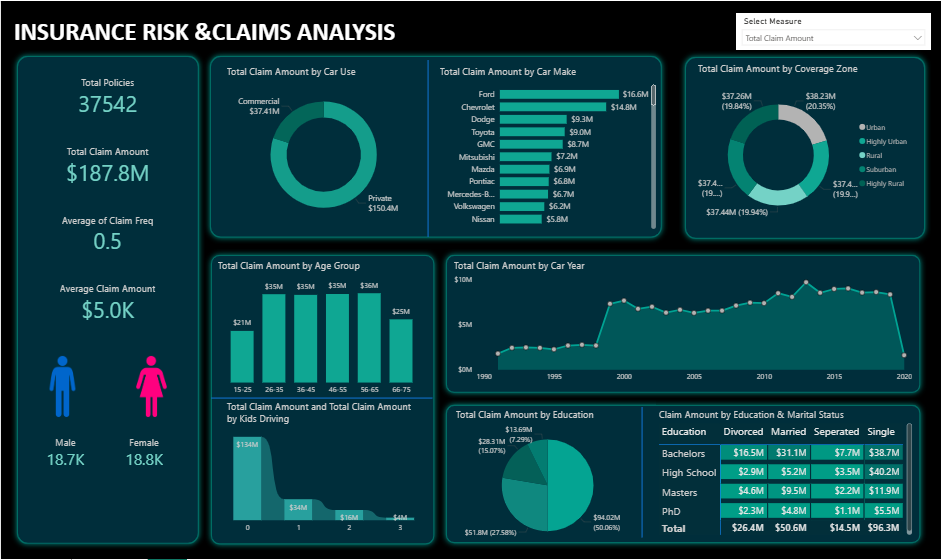

Layout of this report page (visuals, bound fields, positions):
{"tool":"powerbi","page":{"name":"Page 1","canvas":[1600,950],"ordinal":0},"visuals":[{"type":"textbox","box":[17.2,21,661.9,63],"z":0},{"type":"shape","box":[17.2,83.9,330,850.8],"z":1000},{"type":"cardVisual","fields":{"Data":["insurance_data_car.Total Policies","insurance_data_car.Total Claim Amount","Avg(insurance_data_car.Claim Freq)","insurance_data_car.Average Claim Amount"]},"box":[47.7,108.7,269,459.7],"z":2000},{"type":"cardVisual","fields":{"Data":["insurance_data_car.Male Count","insurance_data_car.Femele Count"]},"box":[47.7,713.5,259.4,110.6],"z":3000},{"type":"image","box":[198.4,599,114.5,114.5],"z":4000},{"type":"image","box":[47.7,599,114.5,114.5],"z":5000},{"type":"slicer","fields":{"Values":["Select Measure.Select Measure"]},"box":[1251.4,21,331.9,63],"z":6000},{"type":"shape","box":[346.5,84,789.5,329.7],"z":7000},{"type":"donutChart","fields":{"Y":["insurance_data_car.Total Claim Amount"],"Category":["insurance_data_car.Car Use"]},"box":[379.6,108.7,339.6,284.2],"z":8000},{"type":"clusteredBarChart","fields":{"Y":["insurance_data_car.Total Claim Amount"],"Category":["insurance_data_car.Car Make"]},"box":[742.1,108.7,377.7,284.2],"z":9000},{"type":"shape","box":[1154.1,85.8,429.2,330],"z":10000},{"type":"donutChart","fields":{"Y":["insurance_data_car.Total Claim Amount"],"Category":["insurance_data_car.Coverage Zone","insurance_data_car.Car Use"]},"box":[1180.8,103,375.8,295.7],"z":11000},{"type":"shape","box":[347.2,421.6,400.6,513.2],"z":12000},{"type":"clusteredColumnChart","fields":{"Y":["insurance_data_car.Total Claim Amount"],"Category":["insurance_data_car.Age Group"]},"box":[364.4,438.8,364.4,240.4],"z":13000},{"type":"ribbonChart","fields":{"Y":["insurance_data_car.Total Claim Amount","insurance_data_car.Total Claim Amount"],"Category":["insurance_data_car.Kids Driving"]},"box":[379.6,679.1,339.6,234.6],"z":14000},{"type":"shape","box":[747.8,421.6,827.9,255],"z":15000},{"type":"areaChart","fields":{"Y":["insurance_data_car.Total Claim Amount"],"Category":["insurance_data_car.Car Year"]},"box":[766.4,438.8,789.5,218.4],"z":16000},{"type":"shape","box":[747.8,677.2,827.9,255.6],"z":17000},{"type":"pieChart","fields":{"Y":["insurance_data_car.Total Claim Amount"],"Category":["insurance_data_car.Education"]},"box":[768.8,692.5,322.4,242.3],"z":18000},{"type":"pivotTable","title":"Claim Amount by Education & Marital Status","fields":{"Rows":["insurance_data_car.Education"],"Columns":["insurance_data_car.Marital Status"],"Values":["insurance_data_car.Total Claim Amount"]},"box":[1116,692.5,440.7,221.3],"z":19000},{"type":"shape","box":[714,99.8,27.5,301.1],"z":20000},{"type":"shape","box":[1077,691.6,27.5,221.9],"z":21000},{"type":"shape","box":[357.8,664.1,376.8,24.1],"z":22000}]}

Visuals, with their boxes in screenshot pixels (x1, y1, x2, y2), scaled from the page's 1600x950 canvas onto the 941x560 screenshot:
textbox: 10/12/399/50
shape: 10/49/204/551
cardVisual - insurance_data_car.Total Policies x insurance_data_car.Total Claim Amount: 28/64/186/335
cardVisual - insurance_data_car.Male Count x insurance_data_car.Femele Count: 28/421/181/486
image: 117/353/184/421
image: 28/353/95/421
slicer - Select Measure.Select Measure: 736/12/931/50
shape: 204/50/668/244
donutChart - insurance_data_car.Total Claim Amount x insurance_data_car.Car Use: 223/64/423/232
clusteredBarChart - insurance_data_car.Total Claim Amount x insurance_data_car.Car Make: 436/64/659/232
shape: 679/51/931/245
donutChart - insurance_data_car.Total Claim Amount x insurance_data_car.Coverage Zone: 694/61/915/235
shape: 204/249/440/551
clusteredColumnChart - insurance_data_car.Total Claim Amount x insurance_data_car.Age Group: 214/259/429/400
ribbonChart - insurance_data_car.Total Claim Amount x insurance_data_car.Total Claim Amount: 223/400/423/539
shape: 440/249/927/399
areaChart - insurance_data_car.Total Claim Amount x insurance_data_car.Car Year: 451/259/915/387
shape: 440/399/927/550
pieChart - insurance_data_car.Total Claim Amount x insurance_data_car.Education: 452/408/642/551
"Claim Amount by Education & Marital Status" pivotTable: 656/408/916/539
shape: 420/59/436/236
shape: 633/408/650/538
shape: 210/391/432/406
